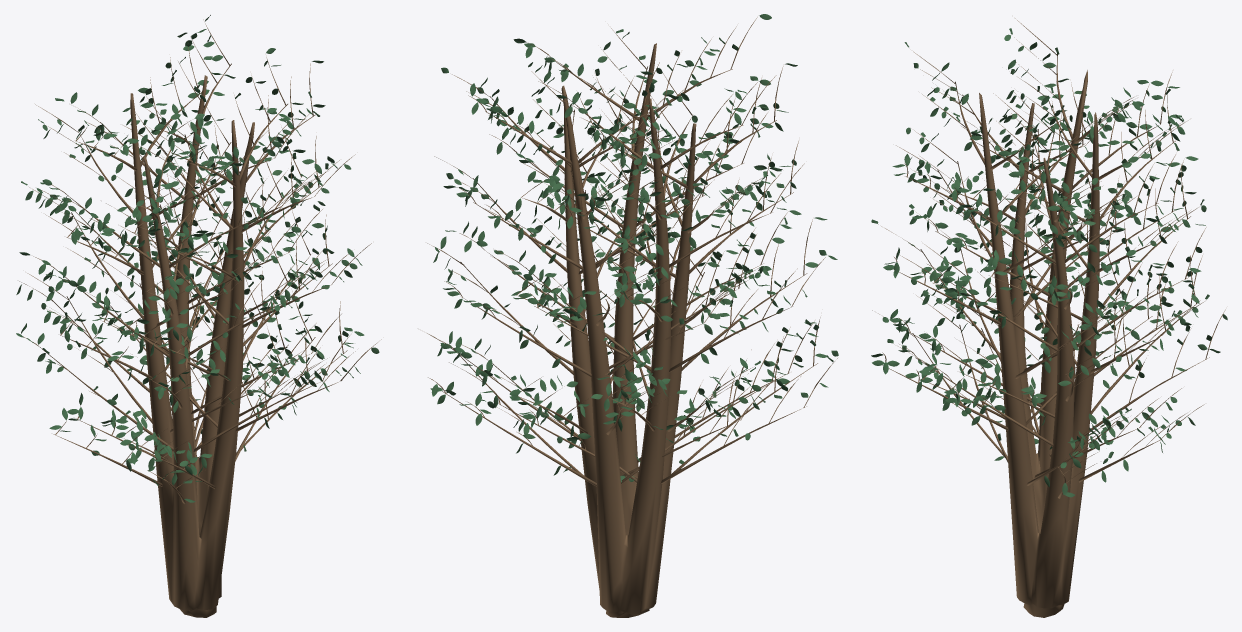
File: Myrte_1_Niveau0.fbx
3 views of the same model, side by side, from view 1: azimuth 30°, elevation 25°; view 2: azimuth 150°, elevation 25°; view 3: azimuth 270°, elevation 25° (orthographic). The views are drawn at different scales.
Visible parts, largest first — view 1: Myrte_1_Niveau0; view 2: Myrte_1_Niveau0; view 3: Myrte_1_Niveau0.
Part boxes in pixels (x1,y1,x2,y2): Myrte_1_Niveau0: [16, 15, 381, 617]; Myrte_1_Niveau0: [427, 14, 838, 617]; Myrte_1_Niveau0: [871, 18, 1227, 617].
Size of the model in its own units: 129 by 193 by 117.
